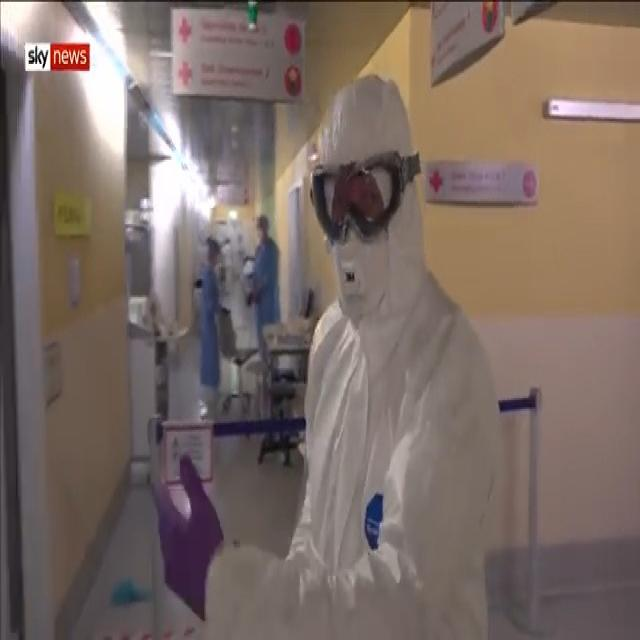Goggles: (306, 147, 422, 245)
Mask: (328, 225, 405, 323)
